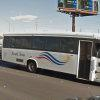Bus: (2, 31, 98, 81)
